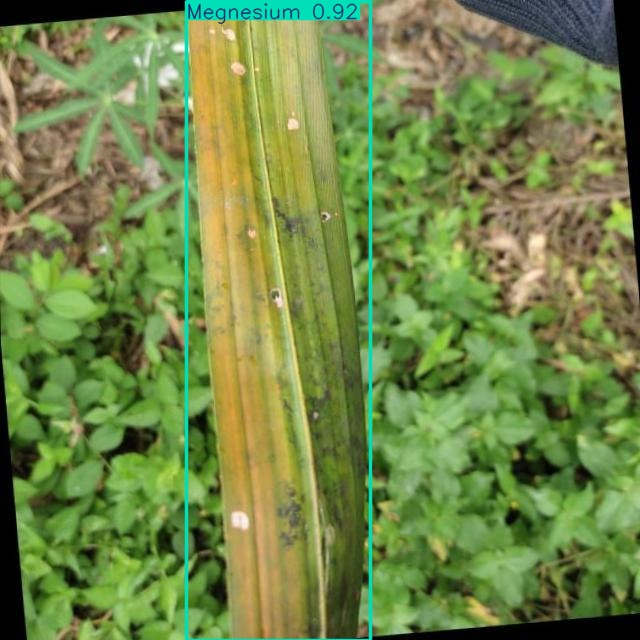Megnesium: (186, 2, 371, 640)
